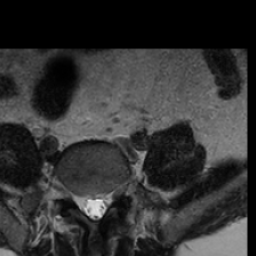CCS_normal: (89, 186, 98, 225)
LFS_normal: (109, 181, 120, 213)
LLS_normal: (100, 188, 109, 221)
RFS_normal: (67, 181, 77, 213)
RLS_normal: (78, 185, 89, 222)
